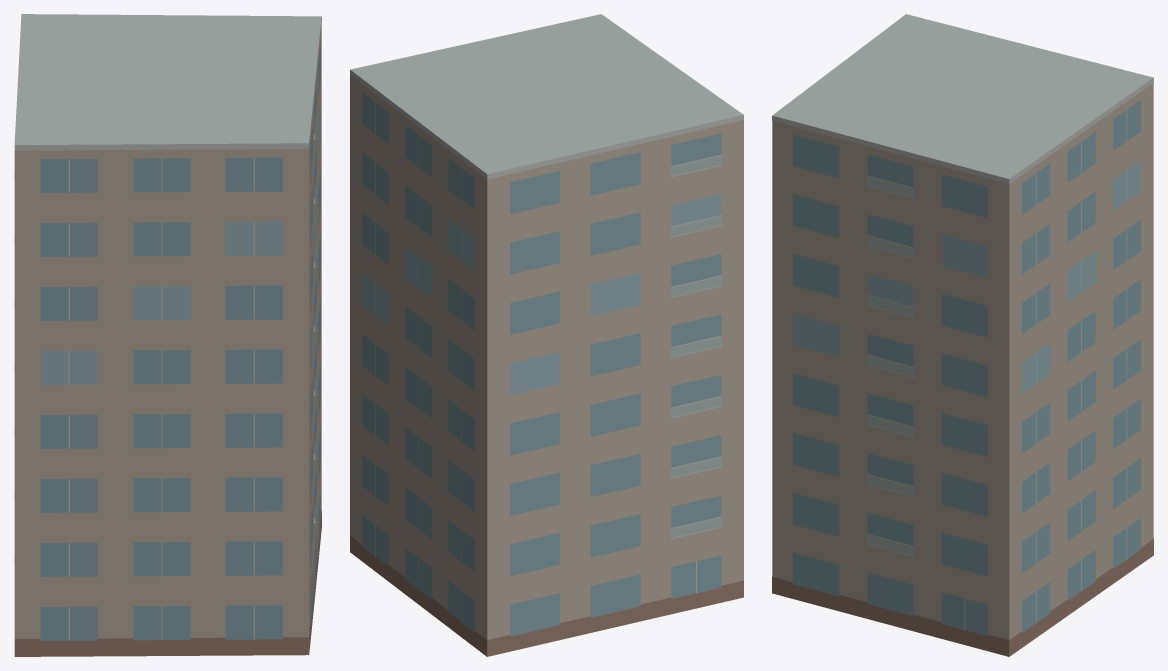
Rendered from survey-upis-33039223.glb.
The picture shows the model from 3 angles, left to right: view 1: azimuth 30°, elevation 25°; view 2: azimuth 150°, elevation 25°; view 3: azimuth 270°, elevation 25°; orthographic projection. The views are drawn at different scales.
Visible parts, largest first — view 1: survey-upis-33039223.tmp; view 2: survey-upis-33039223.tmp; view 3: survey-upis-33039223.tmp.
Boxes of the visible parts, left/top/right/bottom form: survey-upis-33039223.tmp: left=14, top=14, right=321, bottom=656; survey-upis-33039223.tmp: left=350, top=14, right=743, bottom=656; survey-upis-33039223.tmp: left=772, top=14, right=1153, bottom=656.
Size of the model in its own units: 16.83 by 22.7 by 16.44.
